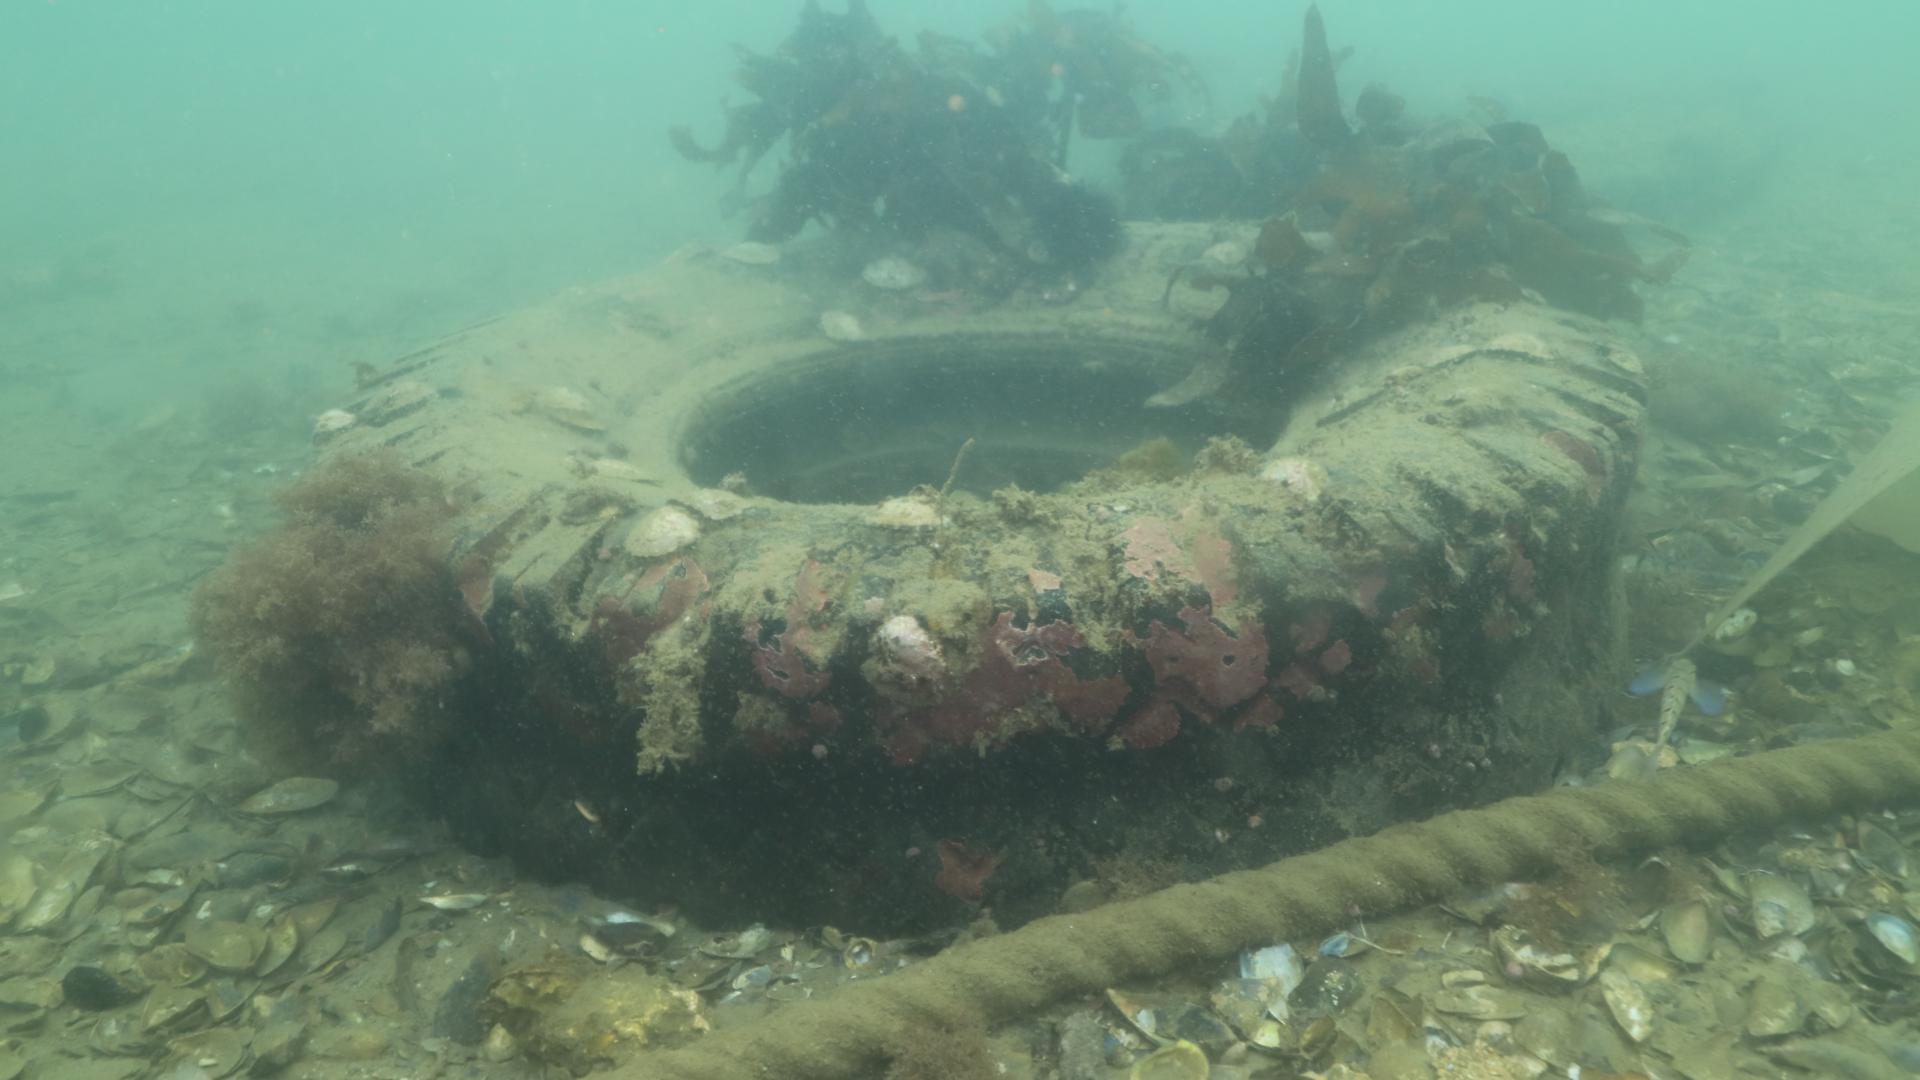rope: (597, 724, 1920, 1080)
tire: (313, 218, 1652, 945)
